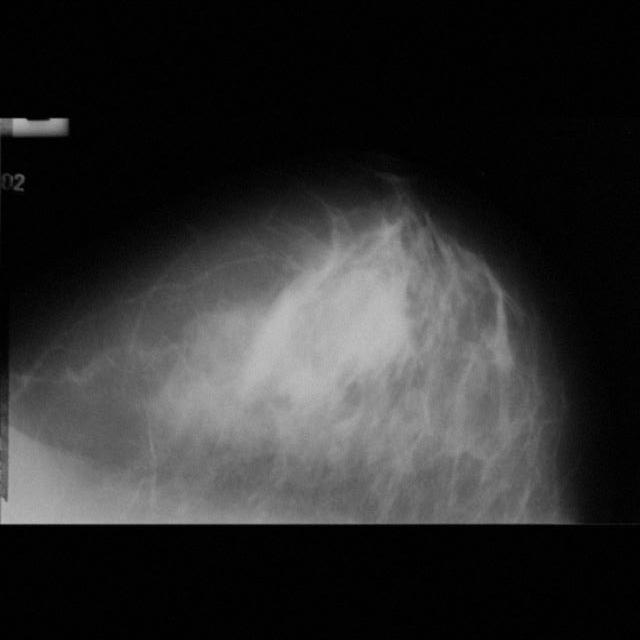CIRC: (303, 264, 419, 381)
